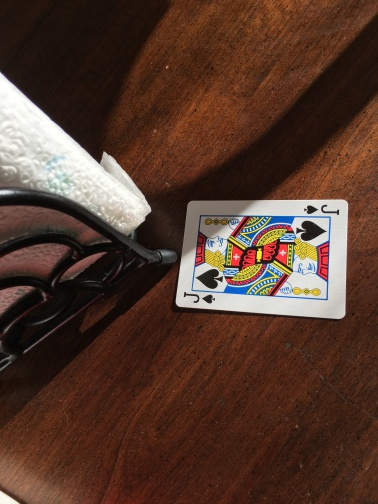jack: (175, 198, 349, 319)
